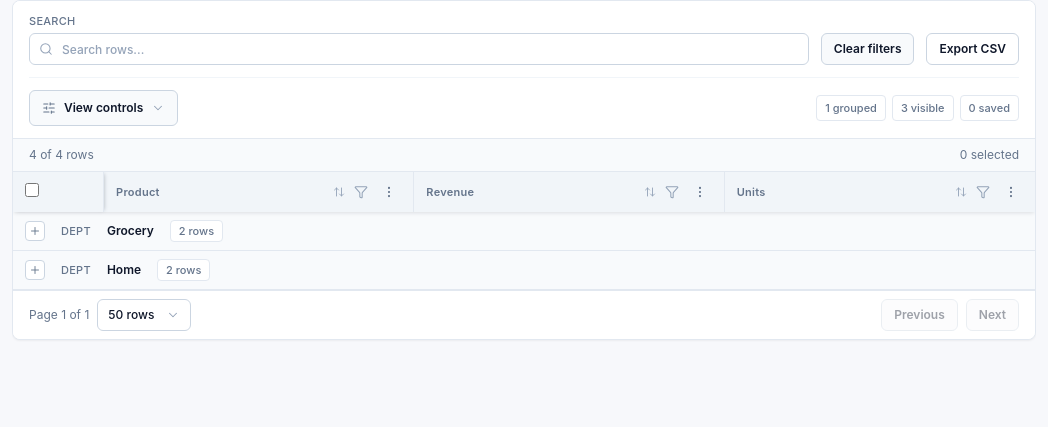
DataGrid grid layout — grouping + pagination (bug #1) › renders each leaf row exactly once when a group is expanded
Click the button with aria-label "Toggle Dept Grocery group" at (130, 230), box x1=13 y1=212 x2=1035 y2=250
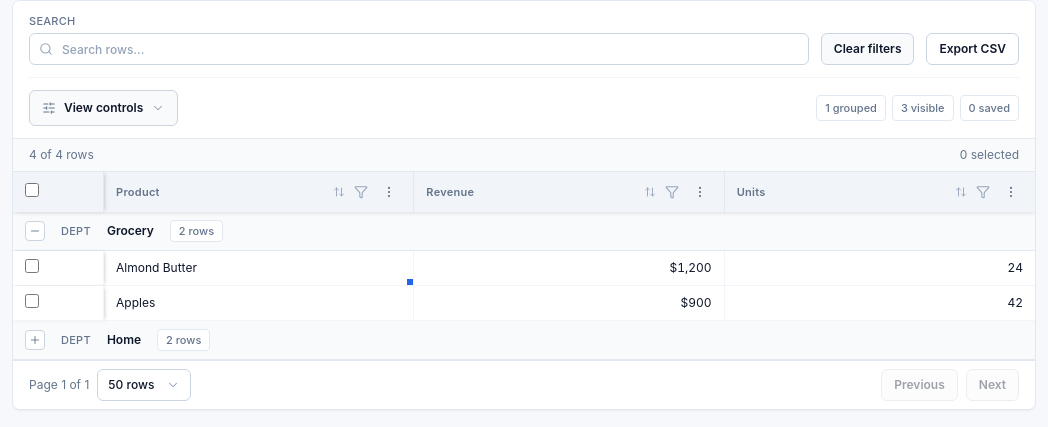
Now the text "Almond Butter" is shown once, box x1=104 y1=251 x2=414 y2=286
